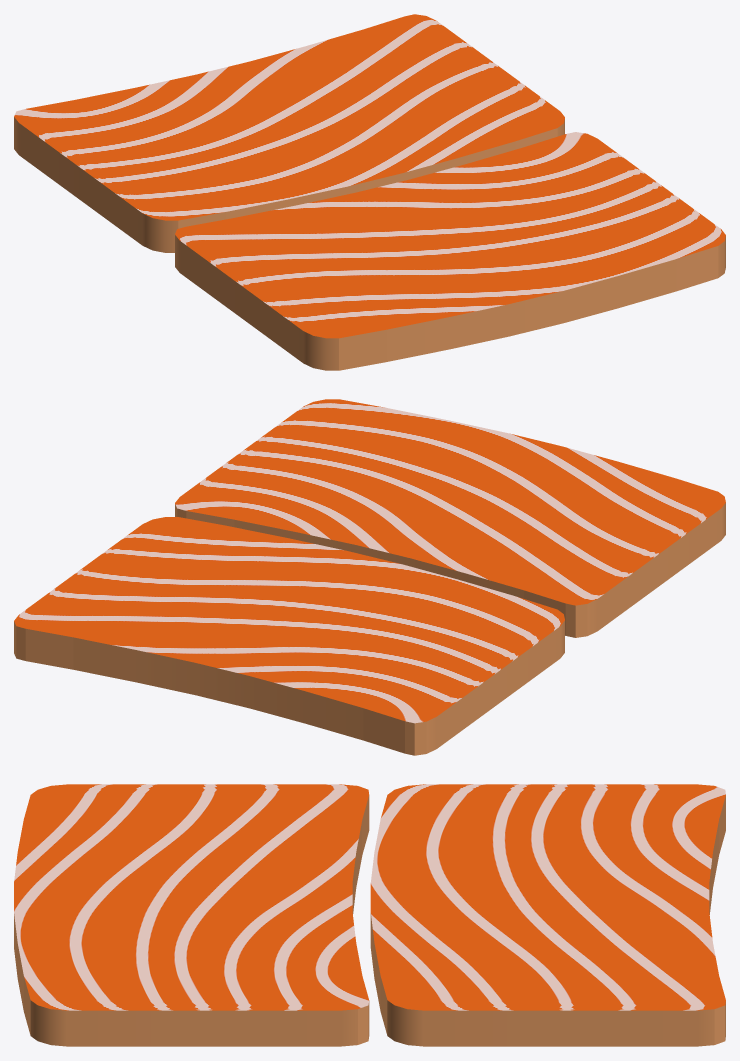
The model's file is Salmon_Slice.glb.
3 views of the same model, one above another, from view 1: azimuth 30°, elevation 25°; view 2: azimuth 150°, elevation 25°; view 3: azimuth 270°, elevation 25° (orthographic). The views are drawn at different scales.
Visible parts, largest first — view 1: Salmon_Slice; view 2: Salmon_Slice; view 3: Salmon_Slice.
Part boxes in pixels (left/top/right/bottom): Salmon_Slice: left=14, top=14, right=725, bottom=370; Salmon_Slice: left=14, top=399, right=725, bottom=755; Salmon_Slice: left=14, top=784, right=725, bottom=1046.
Bounding box in the file's own units: 14.72 × 1.09 × 19.59.
1 material, 1 textured.
